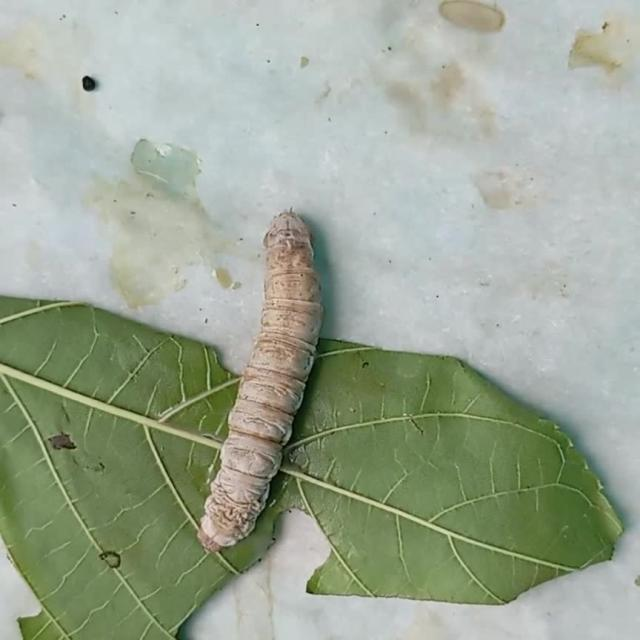Grasserie: (191, 202, 331, 562)
